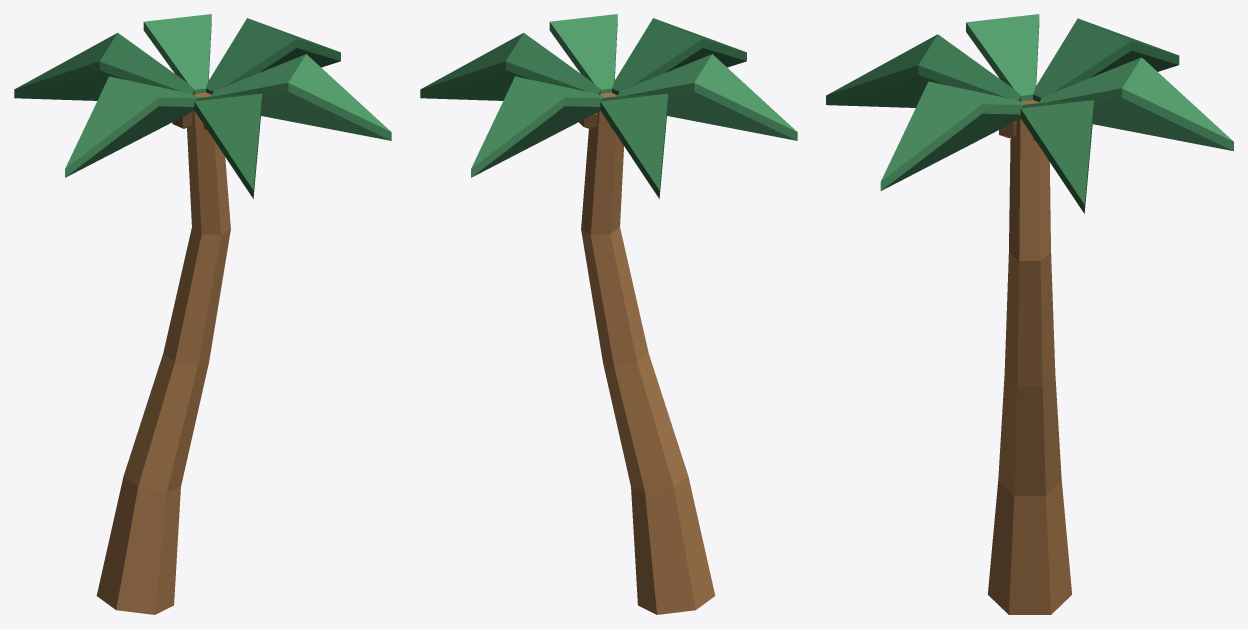
The model's file is palm.glb.
The picture shows the model from 3 angles, left to right: view 1: azimuth 30°, elevation 25°; view 2: azimuth 150°, elevation 25°; view 3: azimuth 270°, elevation 25°; orthographic projection. The views are drawn at different scales.
Visible parts, largest first — view 1: Body; view 2: Body; view 3: Body.
Part boxes in pixels (bbox=[...]): Body: bbox=[14, 14, 391, 614]; Body: bbox=[420, 14, 797, 614]; Body: bbox=[826, 14, 1233, 614].
Bounding box in the file's own units: 1.93 × 3 × 1.93.
